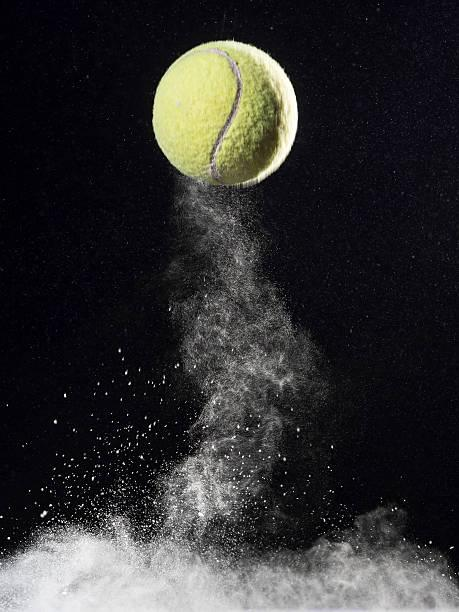ball_tennis: (152, 36, 302, 187)
